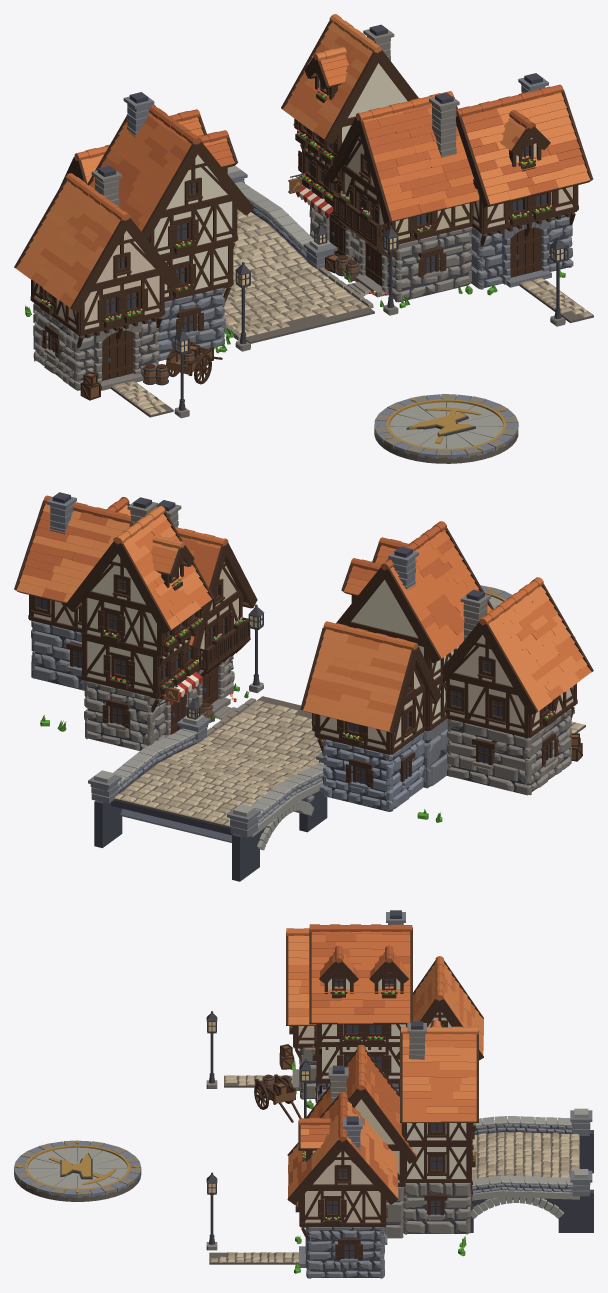
The model's file is VM_TRECHO_03_TOWN_ad9244.fbx.
3 views of the same model, one above another, from view 1: azimuth 30°, elevation 25°; view 2: azimuth 150°, elevation 25°; view 3: azimuth 270°, elevation 25° (orthographic). The views are drawn at different scales.
Visible parts, largest first — view 1: VM_House_PNW__Wood_VM_Timber, VM_House_S1W__Wood_VM_Timber, VM_House_S1E__Wood_VM_Timber, VM_House_PNE__Wood_VM_Timber, VM_Town_TStreet__Stone_Paving_VM_Cob, VM_House_S1E__Stone_VM_Warm, VM_House_PNE__Roof_VM_Terracotta_C, VM_House_S0E__Wood_VM_Timber, VM_House_PNW__Stone_VM_Warm, VM_House_PNW__Roof_VM_Terracotta_C, VM_House_S1E__Roof_VM_Terracotta_B, VM_Town_TStreet__Stone_Paving_VM_CobB (+32 smaller); view 2: VM_House_S0E__Wood_VM_Timber, VM_Town_TStreet__Stone_Paving_VM_Cob, VM_House_PNW__Wood_VM_Timber, VM_House_PNW__Stone_VM_Warm, VM_House_S0W__Roof_VM_Terracotta_C, VM_House_S0W__Wood_VM_Timber, VM_Town_TStreet__Stone_Paving_VM_CobB, VM_House_PNW__Roof_VM_Terracotta_C, VM_House_S1E__Wood_VM_Timber, VM_House_S0W__Stone_VM_Base, VM_House_S1W__Roof_VM_Terracotta, VM_House_S0E__Stone_VM_Warm (+29 smaller); view 3: VM_House_S1W__Roof_VM_Terracotta, VM_House_PNE__Wood_VM_Timber, VM_House_S1W__Wood_VM_Timber, VM_House_S0E__Roof_VM_Terracotta, VM_House_S0E__Wood_VM_Timber, VM_House_PNE__Stone_VM_Grey, VM_Town_TStreet__Stone_Paving_VM_Cob, VM_Town_TBridge__Stone_VM_Trim, VM_House_S0E__Stone_VM_Warm, VM_House_S1W__Roof_VM_Terracotta_B, VM_House_S0E__Roof_VM_Terracotta_C, VM_Town_Medallion__Stone_VM_Trim (+31 smaller).
Part boxes in pixels (box(x1,y1,x2,y2)): VM_House_PNW__Wood_VM_Timber: box(14, 178, 181, 380); VM_House_S1W__Wood_VM_Timber: box(87, 115, 253, 334); VM_House_S1E__Wood_VM_Timber: box(326, 97, 477, 286); VM_House_PNE__Wood_VM_Timber: box(455, 90, 593, 277); VM_Town_TStreet__Stone_Paving_VM_Cob: box(124, 209, 587, 414); VM_House_S1E__Stone_VM_Warm: box(350, 97, 472, 302); VM_House_PNE__Roof_VM_Terracotta_C: box(467, 92, 590, 204); VM_House_S0E__Wood_VM_Timber: box(281, 21, 418, 255); VM_House_PNW__Stone_VM_Warm: box(33, 170, 159, 390); VM_House_PNW__Roof_VM_Terracotta_C: box(16, 180, 125, 300); VM_House_S1E__Roof_VM_Terracotta_B: box(364, 103, 477, 221); VM_Town_TStreet__Stone_Paving_VM_CobB: box(112, 210, 591, 402); VM_House_S0E__Wood_VM_Timber: box(65, 511, 213, 734); VM_Town_TStreet__Stone_Paving_VM_Cob: box(114, 705, 584, 826); VM_House_PNW__Wood_VM_Timber: box(443, 584, 593, 766); VM_House_PNW__Stone_VM_Warm: box(446, 594, 571, 795); VM_House_S0W__Roof_VM_Terracotta_C: box(303, 629, 414, 732); VM_House_S0W__Wood_VM_Timber: box(300, 627, 441, 787); VM_Town_TStreet__Stone_Paving_VM_CobB: box(120, 700, 323, 824); VM_House_PNW__Roof_VM_Terracotta_C: box(483, 586, 587, 711); VM_House_S1E__Wood_VM_Timber: box(129, 523, 257, 704); VM_House_S0W__Stone_VM_Base: box(319, 732, 424, 811); VM_House_S1W__Roof_VM_Terracotta: box(343, 532, 491, 658); VM_House_S0E__Stone_VM_Warm: box(84, 501, 192, 750); VM_House_S1W__Roof_VM_Terracotta: box(311, 931, 410, 1023); VM_House_PNE__Wood_VM_Timber: box(287, 1096, 398, 1259); VM_House_S1W__Wood_VM_Timber: box(309, 927, 412, 1102); VM_House_S0E__Roof_VM_Terracotta: box(402, 1034, 476, 1122); VM_House_S0E__Wood_VM_Timber: box(398, 1024, 478, 1215); VM_House_PNE__Stone_VM_Grey: box(299, 1118, 387, 1278); VM_Town_TStreet__Stone_Paving_VM_Cob: box(219, 1075, 579, 1262); VM_Town_TBridge__Stone_VM_Trim: box(470, 1108, 588, 1218); VM_House_S0E__Stone_VM_Warm: box(403, 1023, 472, 1234); VM_House_S1W__Roof_VM_Terracotta_B: box(309, 924, 412, 1014); VM_House_S0E__Roof_VM_Terracotta_C: box(401, 1020, 478, 1113); VM_Town_Medallion__Stone_VM_Trim: box(27, 1147, 127, 1188).
Bounding box in the file's own units: 75.14 × 36.51 × 82.
